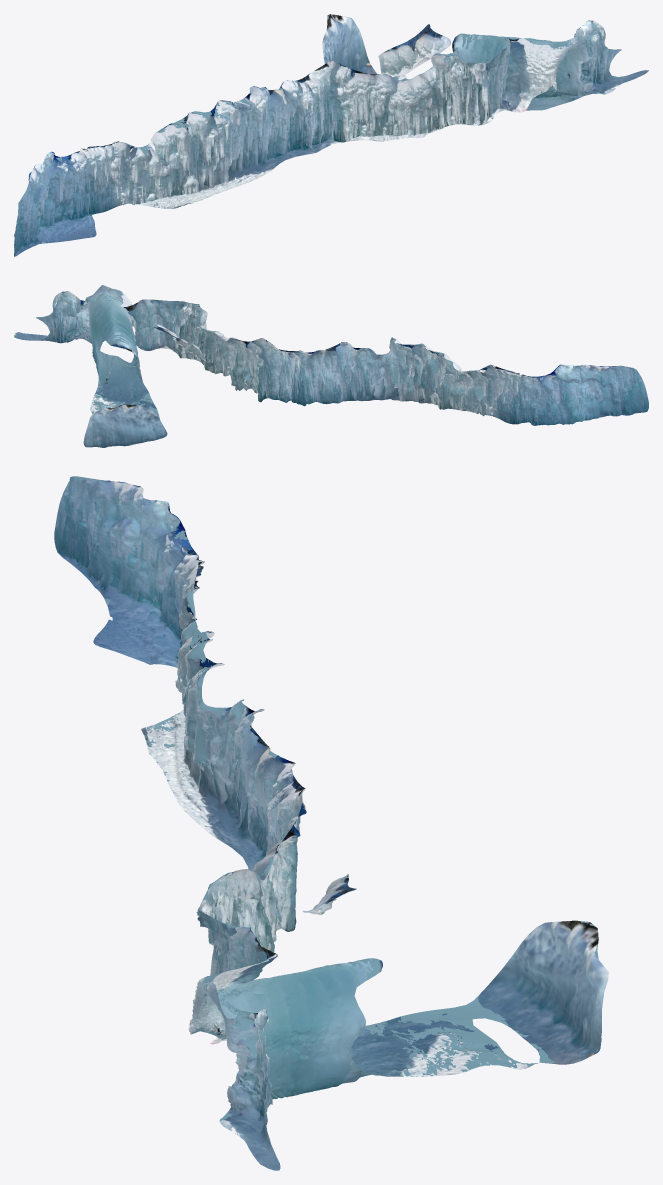
File: ice_castles_ny__ice_wall.glb
3 views of the same model, one above another, from view 1: azimuth 30°, elevation 25°; view 2: azimuth 150°, elevation 25°; view 3: azimuth 270°, elevation 25° (orthographic). The views are drawn at different scales.
Visible parts, largest first — view 1: Object_8, Object_4, Object_6, Object_10, Object_2, Object_11, Object_12, Object_9, Object_7, Object_13, Object_5, Object_14; view 2: Object_8, Object_4, Object_10, Object_6, Object_2, Object_11, Object_12, Object_9, Object_13, Object_7, Object_5, Object_14; view 3: Object_10, Object_8, Object_4, Object_2, Object_6, Object_11, Object_12, Object_9, Object_7, Object_13, Object_14.
Part boxes in pixels (left/top/right/bottom): Object_8: left=18, top=14, right=613, bottom=246; Object_4: left=14, top=28, right=605, bottom=256; Object_6: left=24, top=25, right=604, bottom=243; Object_10: left=14, top=15, right=642, bottom=256; Object_2: left=15, top=18, right=596, bottom=235; Object_11: left=19, top=21, right=648, bottom=232; Object_12: left=19, top=14, right=631, bottom=235; Object_9: left=32, top=38, right=627, bottom=216; Object_7: left=28, top=44, right=588, bottom=206; Object_13: left=18, top=22, right=641, bottom=219; Object_5: left=26, top=56, right=568, bottom=224; Object_14: left=20, top=21, right=616, bottom=226; Object_8: left=44, top=291, right=637, bottom=447; Object_4: left=54, top=285, right=648, bottom=425; Object_10: left=14, top=287, right=637, bottom=447; Object_6: left=59, top=292, right=631, bottom=424; Object_2: left=60, top=297, right=645, bottom=414; Object_11: left=14, top=291, right=632, bottom=441; Object_12: left=37, top=286, right=637, bottom=436; Object_9: left=31, top=286, right=599, bottom=422; Object_13: left=26, top=292, right=640, bottom=420; Object_7: left=84, top=293, right=615, bottom=408; Object_5: left=90, top=318, right=624, bottom=405; Object_14: left=64, top=288, right=633, bottom=420; Object_10: left=58, top=476, right=608, bottom=1170; Object_8: left=69, top=476, right=598, bottom=1139; Object_4: left=54, top=500, right=561, bottom=1133; Object_2: left=58, top=481, right=581, bottom=1102; Object_6: left=70, top=481, right=327, bottom=1129; Object_11: left=71, top=481, right=534, bottom=1170; Object_12: left=69, top=480, right=597, bottom=1151; Object_9: left=118, top=484, right=337, bottom=1156; Object_7: left=93, top=480, right=269, bottom=1049; Object_13: left=64, top=481, right=559, bottom=1161; Object_14: left=71, top=480, right=527, bottom=1133.
Size of the model in its own units: 25.84 by 4.25 by 10.69.
11 materials, 11 textured.
